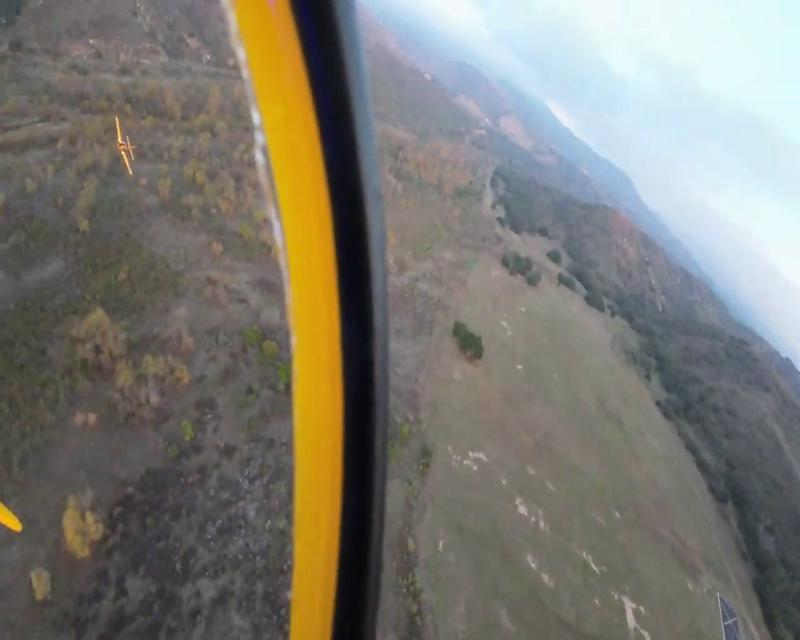UAV: (114, 117, 138, 176)
